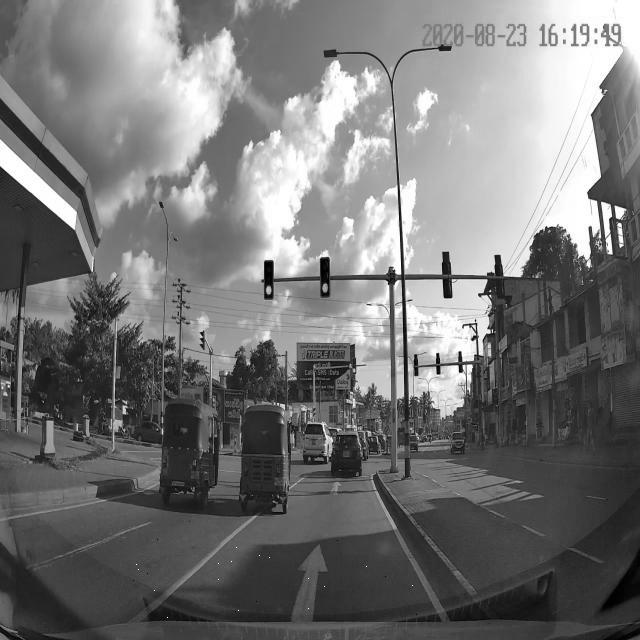forward: (126, 532, 452, 625)
